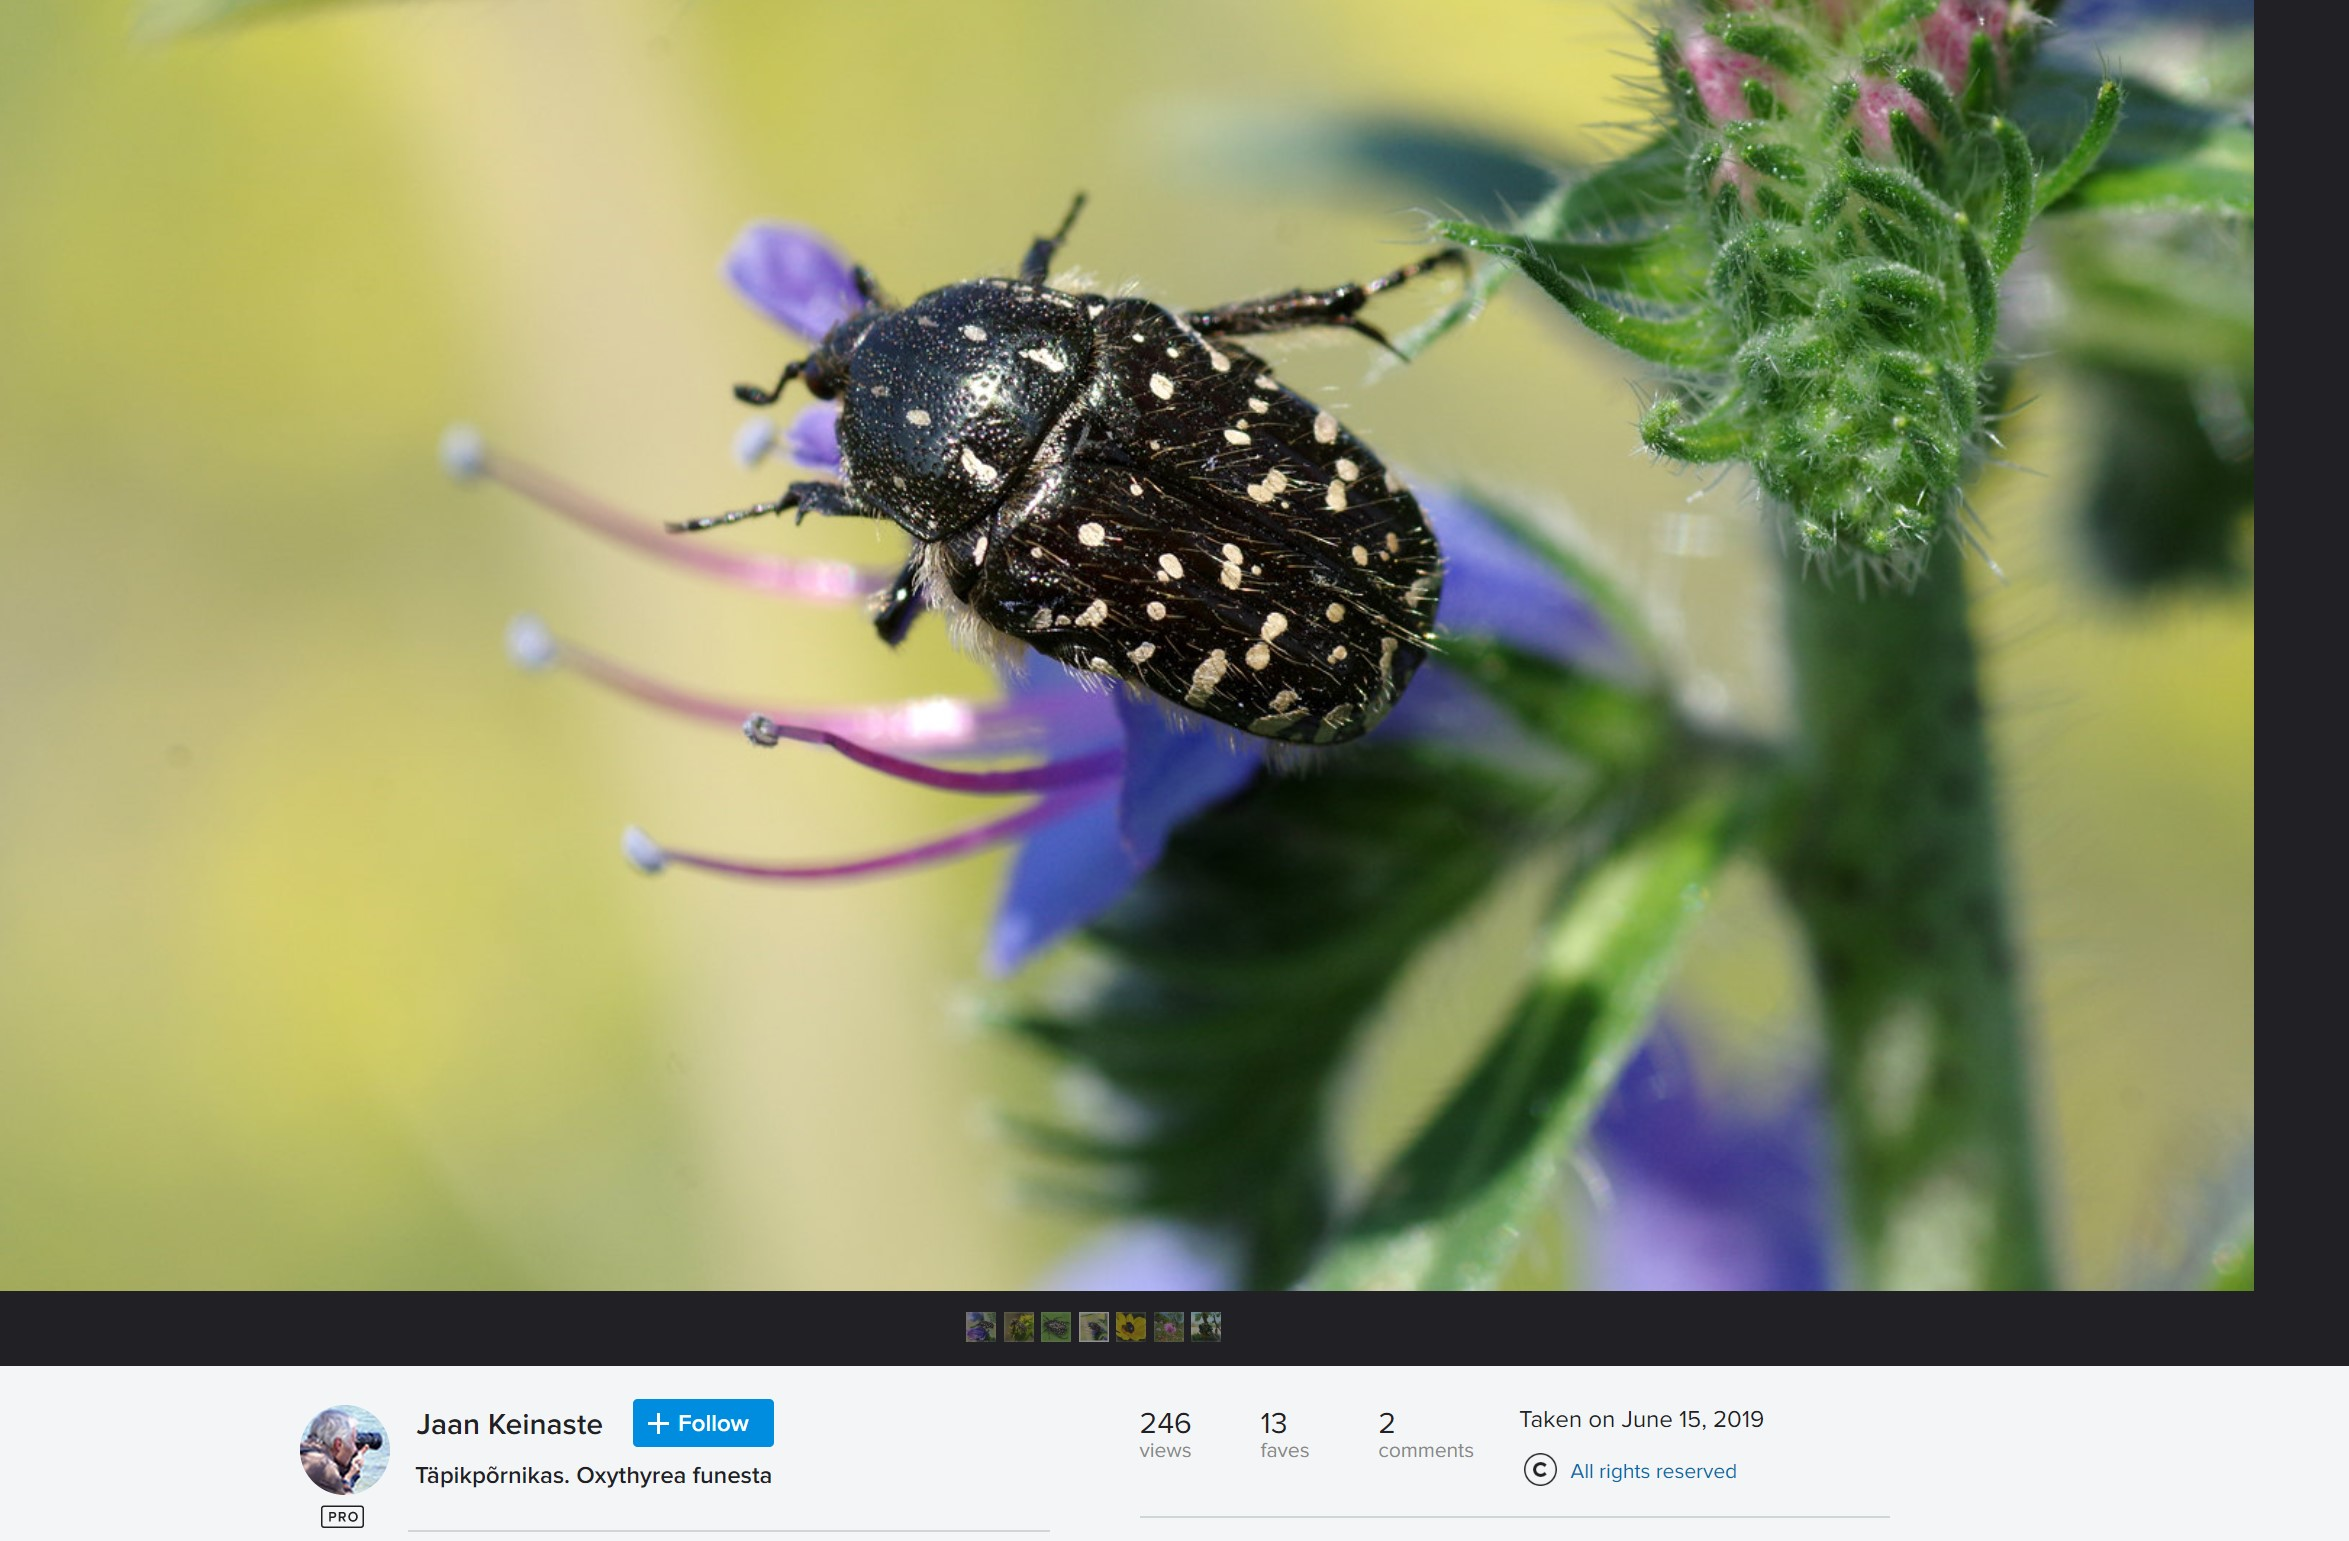Oxythyrea_funesta: (633, 193, 1542, 767)
